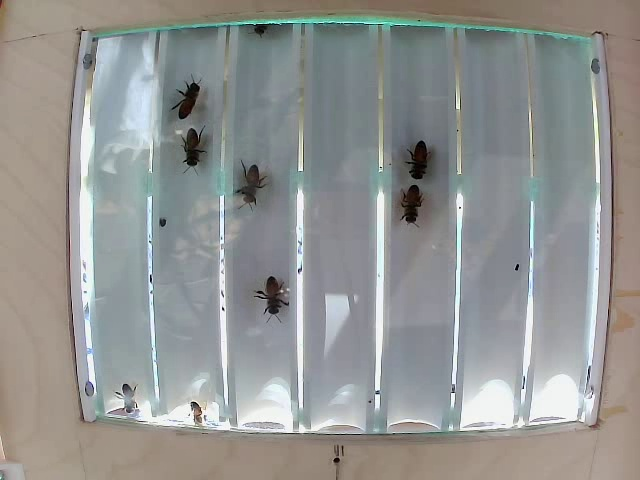bee: (163, 124, 208, 175), (168, 83, 210, 131), (236, 153, 268, 212), (260, 271, 299, 319), (391, 184, 429, 233), (406, 146, 437, 186)
